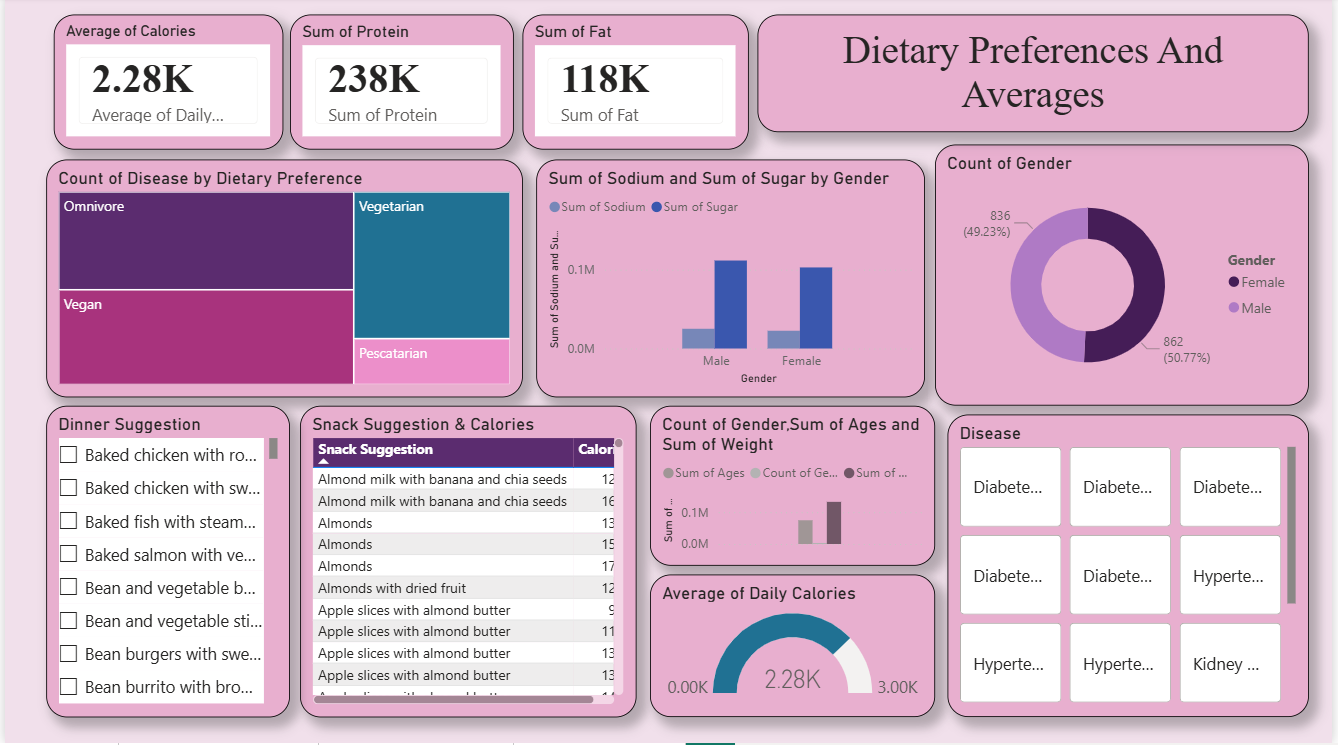

What the dashboard file says about the page in this screenshot:
{"tool":"powerbi","page":{"name":"Dietary preferences","canvas":[1280,720],"ordinal":0},"visuals":[{"type":"cardVisual","title":"Average of Calories","fields":{"Data":["Avg(Food_and_Nutrition__.Daily Calorie Target)"]},"box":[47.1,16.9,222,130.3],"z":0},{"type":"cardVisual","title":"Sum of Protein","fields":{"Data":["Sum(Food_and_Nutrition__.Protein)"]},"box":[275.1,16.9,216,130.3],"z":1000},{"type":"cardVisual","title":"Sum of Fat","fields":{"Data":["Sum(Food_and_Nutrition__.Fat)"]},"box":[499.5,16.9,218.4,130.3],"z":2000},{"type":"treemap","title":"Count of Disease by Dietary Preference","fields":{"Group":["Food_and_Nutrition__.Dietary Preference"],"Values":["CountNonNull(Food_and_Nutrition__.Disease)"]},"box":[39.8,156.8,459.7,229.2],"z":3000},{"type":"clusteredColumnChart","title":"Sum of Sodium and Sum of Sugar by Gender","fields":{"Category":["Food_and_Nutrition__.Gender"],"Y":["Sum(Food_and_Nutrition__.Sodium)","Sum(Food_and_Nutrition__.Sugar)"]},"box":[512.7,156.8,375.2,229.2],"z":4000},{"type":"donutChart","title":"Count of Gender ","fields":{"Category":["Food_and_Nutrition__.Gender"],"Y":["CountNonNull(Food_and_Nutrition__.Gender)"]},"box":[897.6,142.4,360.7,252.1],"z":5000},{"type":"tableEx","title":"Snack Suggestion & Calories","fields":{"Values":["Food_and_Nutrition__.Snack Suggestion","Food_and_Nutrition__.Calories"]},"box":[284.7,394.5,324.5,300.4],"z":6000},{"type":"clusteredColumnChart","title":"Count of Gender,Sum of Ages and Sum of Weight","fields":{"Y":["Sum(Food_and_Nutrition__.Ages)","CountNonNull(Food_and_Nutrition__.Gender)","Sum(Food_and_Nutrition__.Weight)"]},"box":[622.5,394.5,275.1,154.4],"z":7000},{"type":"gauge","title":"Average of Daily Calories","fields":{"Y":["Avg(Food_and_Nutrition__.Daily Calorie Target)"]},"box":[622.2,557.7,275.1,137.6],"z":8000},{"type":"textbox","box":[726.3,16.9,532,113.4],"z":9000},{"type":"listSlicer","fields":{"Values":["Food_and_Nutrition__.Dinner Suggestion"]},"box":[39.8,394.5,235.3,300.4],"z":10000},{"type":"advancedSlicerVisual","fields":{"Values":["Food_and_Nutrition__.Disease"]},"box":[909.7,403,348.7,292],"z":11000}]}

Visuals, with their boxes in screenshot pixels (x1, y1, x2, y2), scaled from the page's 1280x720 canvas onto the 1338x745 screenshot:
"Average of Calories" cardVisual: Rect(49, 17, 281, 152)
"Sum of Protein" cardVisual: Rect(288, 17, 513, 152)
"Sum of Fat" cardVisual: Rect(522, 17, 750, 152)
"Count of Disease by Dietary Preference" treemap: Rect(42, 162, 522, 399)
"Sum of Sodium and Sum of Sugar by Gender" clusteredColumnChart: Rect(536, 162, 928, 399)
"Count of Gender " donutChart: Rect(938, 147, 1315, 408)
"Snack Suggestion & Calories" tableEx: Rect(298, 408, 637, 719)
"Count of Gender,Sum of Ages and Sum of Weight" clusteredColumnChart: Rect(651, 408, 938, 568)
"Average of Daily Calories" gauge: Rect(650, 577, 938, 719)
textbox: Rect(759, 17, 1315, 135)
listSlicer - Food_and_Nutrition__.Dinner Suggestion: Rect(42, 408, 288, 719)
advancedSlicerVisual - Food_and_Nutrition__.Disease: Rect(951, 417, 1315, 719)
